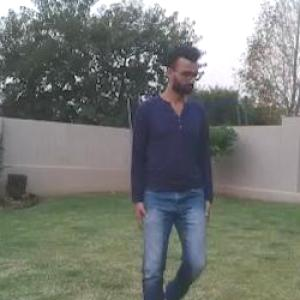follow: (128, 40, 221, 298)
